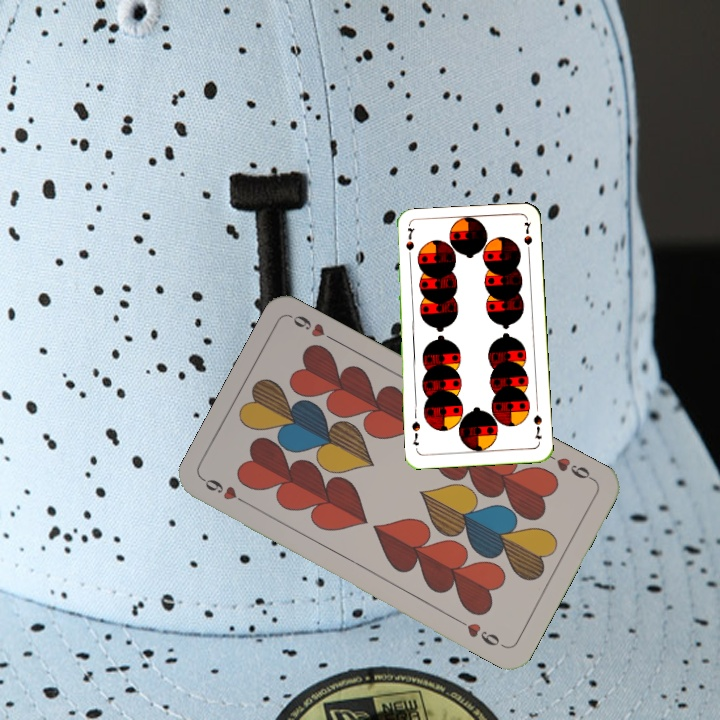H9: (543, 449, 597, 484), (200, 474, 254, 509)
S7: (402, 224, 417, 264), (529, 411, 544, 442)
